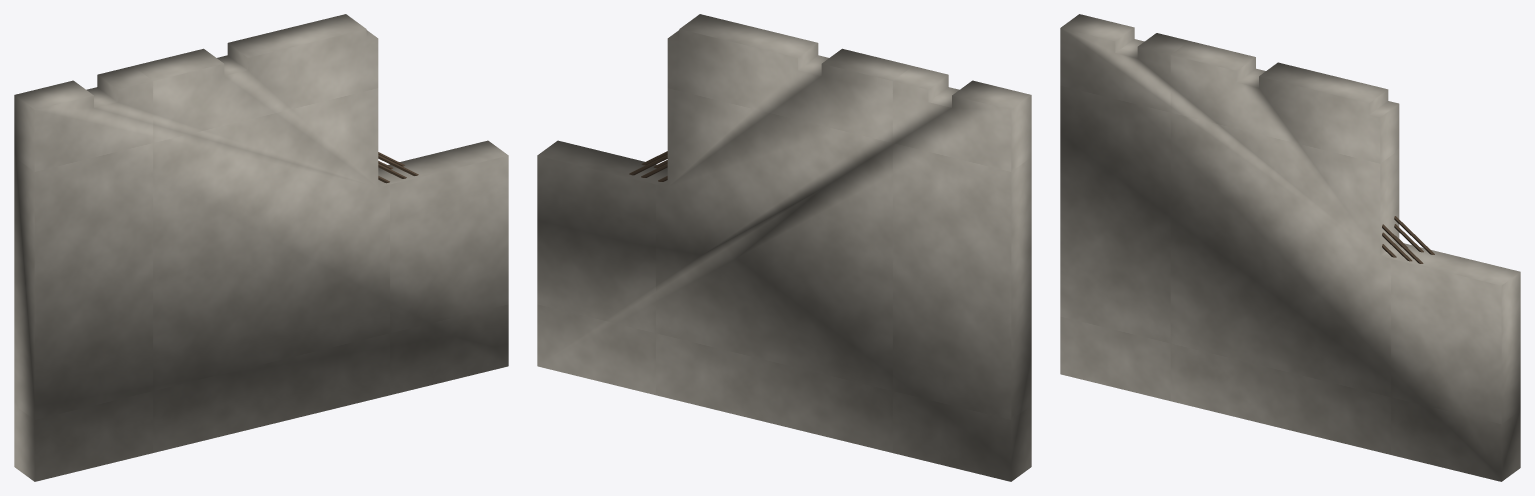
The model's file is wall_concrete_4m_damaged.glb.
3 views of the same model, side by side, from view 1: azimuth 30°, elevation 25°; view 2: azimuth 150°, elevation 25°; view 3: azimuth 330°, elevation 25° (orthographic). The views are drawn at different scales.
Parts seen in each view (by area): view 1: wall_concrete_4m_damaged; view 2: wall_concrete_4m_damaged; view 3: wall_concrete_4m_damaged.
Part boxes in pixels (x1=…): wall_concrete_4m_damaged: x1=14, y1=14, x2=508, y2=481; wall_concrete_4m_damaged: x1=537, y1=14, x2=1031, y2=481; wall_concrete_4m_damaged: x1=1060, y1=14, x2=1520, y2=481.
Size of the model in its own units: 4 by 3 by 0.3.
Materials: 3 (3 with a texture image).
